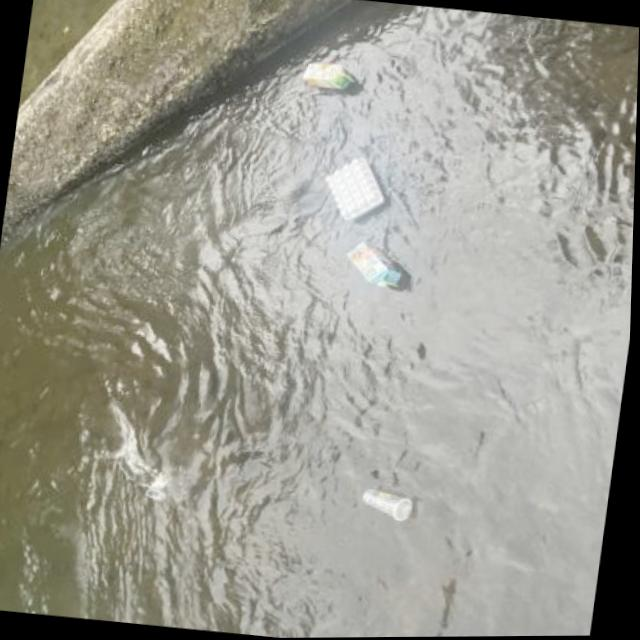Cardboard: (335, 235, 417, 297), (294, 55, 369, 103), (382, 628, 463, 638)
Plastic: (315, 148, 396, 229), (354, 481, 429, 527)
